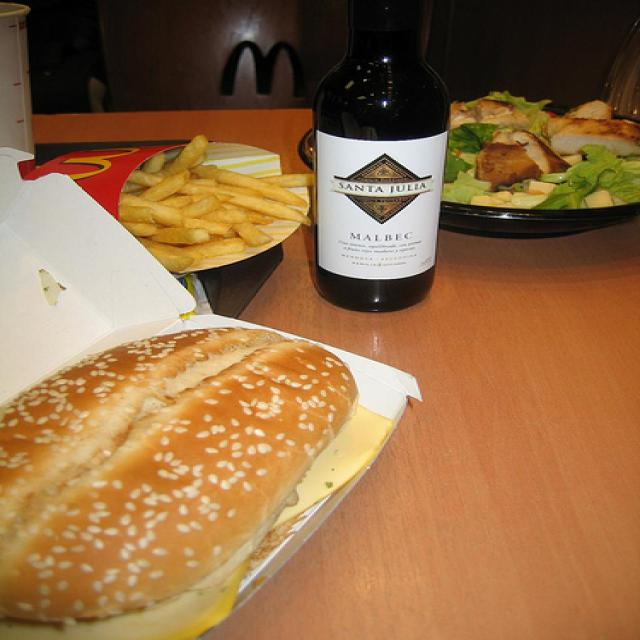chair: (100, 0, 351, 113)
dining table: (0, 109, 637, 640)
